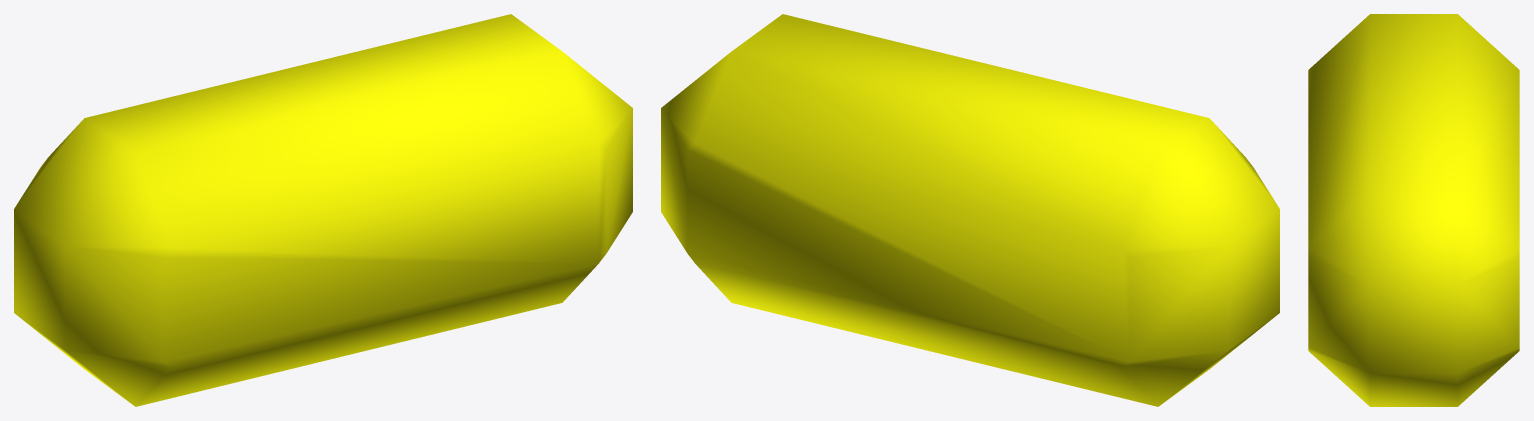
File: finger_distal.bbox.gltf
3 renders of one model, left to right at view 1: azimuth 30°, elevation 25°; view 2: azimuth 150°, elevation 25°; view 3: azimuth 270°, elevation 25°, orthographic. The views are drawn at different scales.
Parts seen in each view (by area): view 1: finger_distal.bbox; view 2: finger_distal.bbox; view 3: finger_distal.bbox.
Part boxes in pixels (x1,y1,x2,y2): finger_distal.bbox: (14, 14, 632, 406); finger_distal.bbox: (661, 14, 1279, 406); finger_distal.bbox: (1308, 14, 1519, 406).
Bounding box in the file's own units: 0.0532 × 0.0225 × 0.0201.
